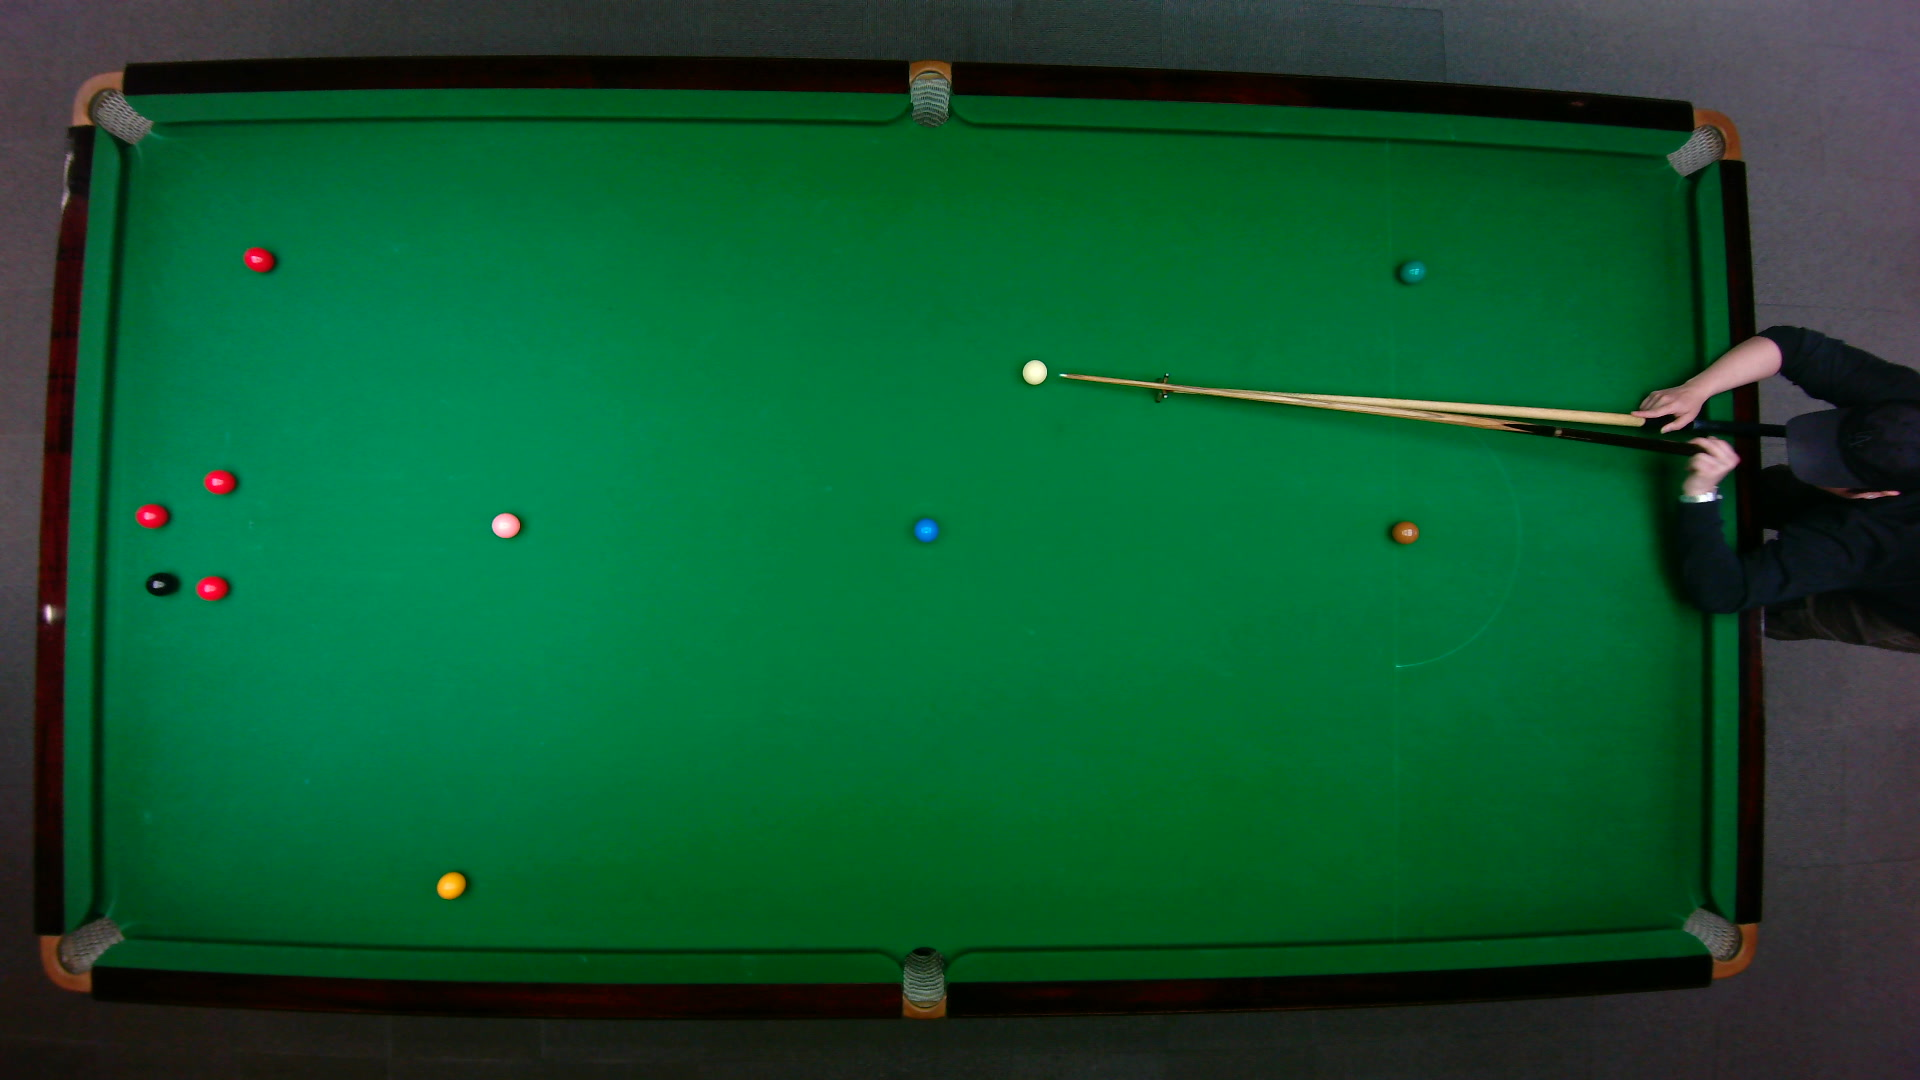bag: (40, 916, 127, 994), (71, 70, 156, 145), (1680, 906, 1758, 978), (1665, 108, 1742, 178), (902, 945, 945, 1021), (909, 59, 951, 129)
black: (144, 571, 178, 597)
blue: (914, 518, 939, 543)
brown: (1391, 520, 1422, 545)
cue: (1058, 372, 1710, 458)
green: (1398, 260, 1428, 285)
pink: (491, 512, 522, 541)
red: (135, 502, 170, 529), (243, 247, 276, 274), (196, 575, 229, 603), (204, 469, 237, 496)
white: (1021, 359, 1048, 386)
yellow: (436, 872, 468, 901)
zone: (1391, 397, 1522, 669)
